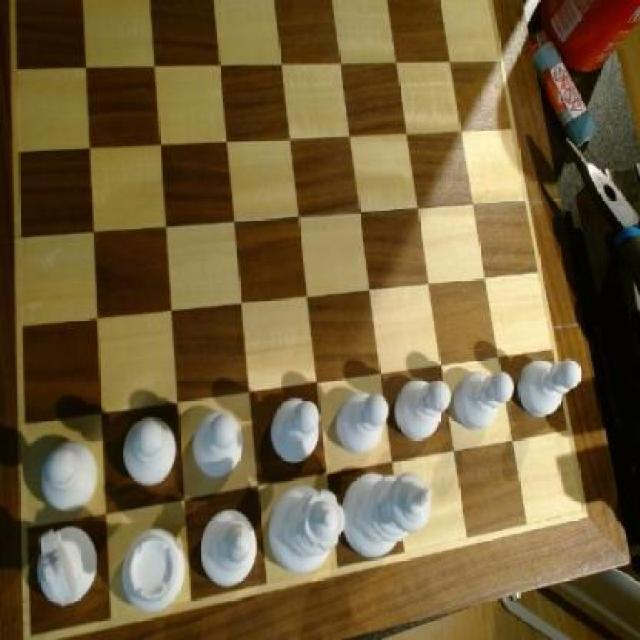black-rook: (198, 512, 262, 594)
white-bishop: (342, 472, 430, 562)
white-king: (20, 522, 100, 606)
white-knight: (120, 417, 178, 491), (38, 442, 98, 512), (264, 395, 320, 468), (520, 354, 583, 418), (394, 380, 452, 444), (458, 366, 514, 431), (190, 418, 242, 480), (337, 391, 385, 456)
white-pawn: (269, 483, 346, 573)
white-queen: (115, 526, 187, 617)
